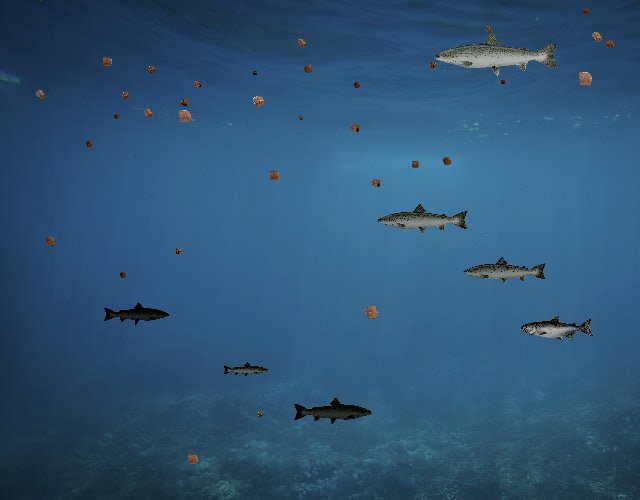Fish: (432, 31, 561, 77), (376, 203, 470, 237), (462, 255, 548, 286), (293, 396, 374, 425), (522, 315, 595, 342), (102, 301, 170, 326), (222, 361, 269, 378)
Pellet: (246, 89, 271, 114), (181, 447, 204, 470), (366, 174, 385, 193), (170, 244, 185, 259), (116, 268, 130, 282), (426, 58, 440, 72), (254, 409, 266, 421)
